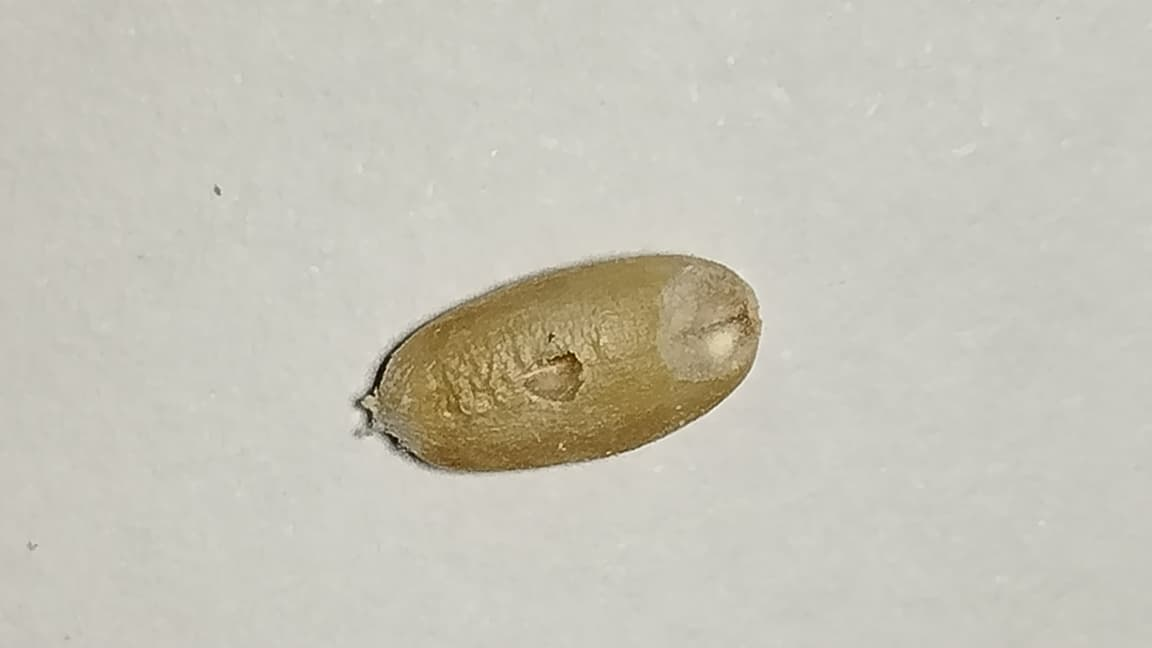damage: (375, 256, 760, 470)
insectdamage: (653, 263, 761, 382), (501, 332, 624, 433)
